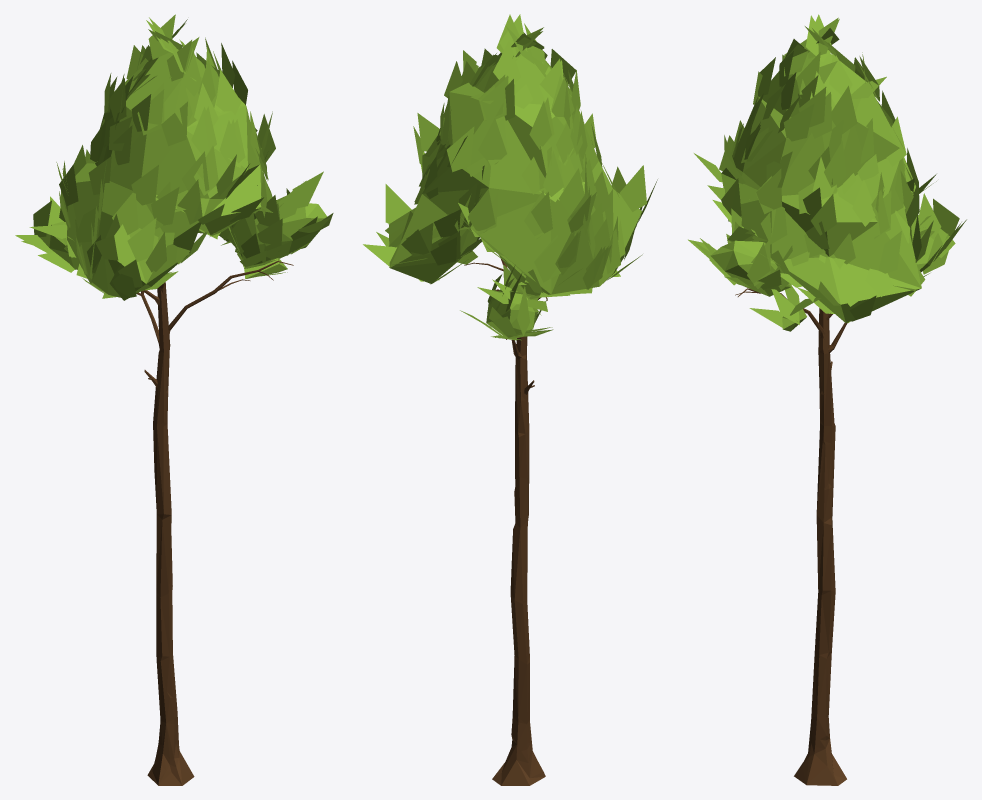
File: SM_Tree_Birch_Mature_B.fbx
The picture shows the model from 3 angles, left to right: view 1: azimuth 30°, elevation 25°; view 2: azimuth 150°, elevation 25°; view 3: azimuth 270°, elevation 25°; orthographic projection.
Parts seen in each view (by area): view 1: tree-birch-mature-b; view 2: tree-birch-mature-b; view 3: tree-birch-mature-b.
Part boxes in pixels (box(x1,y1,x2,y2)): tree-birch-mature-b: box(15, 14, 333, 785); tree-birch-mature-b: box(363, 14, 657, 785); tree-birch-mature-b: box(688, 14, 966, 785).
Size of the model in its own units: 3.85 by 11.53 by 3.88.
